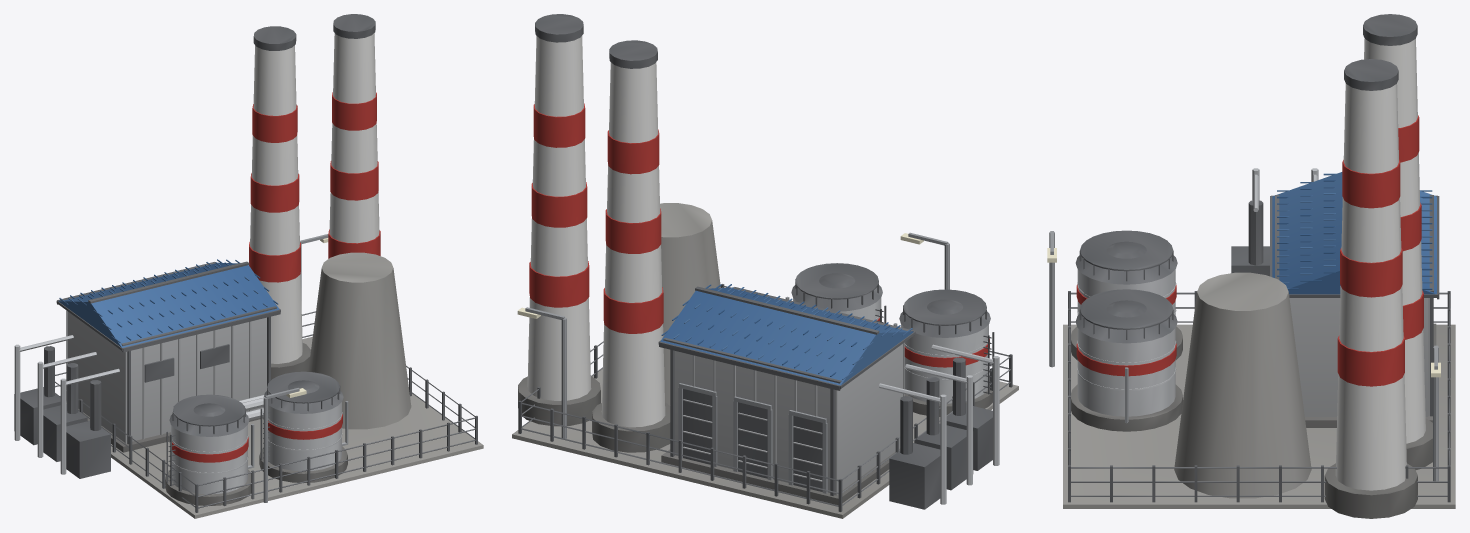
File: Power_P2.fbx
The picture shows the model from 3 angles, left to right: view 1: azimuth 30°, elevation 25°; view 2: azimuth 150°, elevation 25°; view 3: azimuth 270°, elevation 25°; orthographic projection. The views are drawn at different scales.
Parts seen in each view (by area): view 1: Power.Hall, Power.Stack0, Power.CoolingTowers, Power.Stack1, Power.Yard, Power.Switchyard, Power.Tank0, Power.Tank1, Power.Fence, Power.Lamp0; view 2: Power.Hall, Power.Stack0, Power.Stack1, Power.Switchyard, Power.Tank0, Power.Yard, Power.CoolingTowers, Power.Fence, Power.Tank1, Power.Lamp1, Power.Lamp0; view 3: Power.Stack1, Power.CoolingTowers, Power.Yard, Power.Hall, Power.Tank1, Power.Stack0, Power.Tank0, Power.Fence, Power.Switchyard, Power.Lamp1, Power.Lamp0.
Boxes of the visible parts, x1,y1,x2,y2 form: Power.Hall: [56, 259, 280, 452]; Power.Stack0: [249, 26, 310, 379]; Power.CoolingTowers: [308, 252, 411, 429]; Power.Stack1: [328, 14, 380, 258]; Power.Yard: [111, 337, 483, 518]; Power.Switchyard: [14, 335, 119, 478]; Power.Tank0: [165, 394, 254, 505]; Power.Tank1: [259, 371, 348, 483]; Power.Fence: [55, 311, 477, 512]; Power.Lamp0: [263, 388, 306, 502]; Power.Hall: [658, 284, 915, 505]; Power.Stack0: [592, 40, 670, 452]; Power.Stack1: [518, 14, 600, 426]; Power.Switchyard: [878, 344, 999, 509]; Power.Tank0: [893, 289, 994, 416]; Power.Yard: [512, 369, 1018, 518]; Power.CoolingTowers: [660, 203, 720, 405]; Power.Fence: [518, 284, 1012, 511]; Power.Tank1: [785, 263, 886, 323]; Power.Lamp1: [517, 307, 566, 438]; Power.Lamp0: [900, 232, 949, 289]; Power.Stack1: [1324, 59, 1417, 518]; Power.CoolingTowers: [1174, 272, 1311, 498]; Power.Yard: [1063, 324, 1455, 508]; Power.Hall: [1270, 172, 1439, 427]; Power.Tank1: [1071, 289, 1182, 431]; Power.Stack0: [1363, 14, 1432, 469]; Power.Tank0: [1071, 230, 1182, 360]; Power.Fence: [1068, 291, 1450, 502]; Power.Switchyard: [1231, 168, 1318, 276]; Power.Lamp1: [1431, 345, 1440, 481]; Power.Lamp0: [1047, 231, 1056, 367].
Size of the model in its own units: 3333 by 2921 by 2495.
